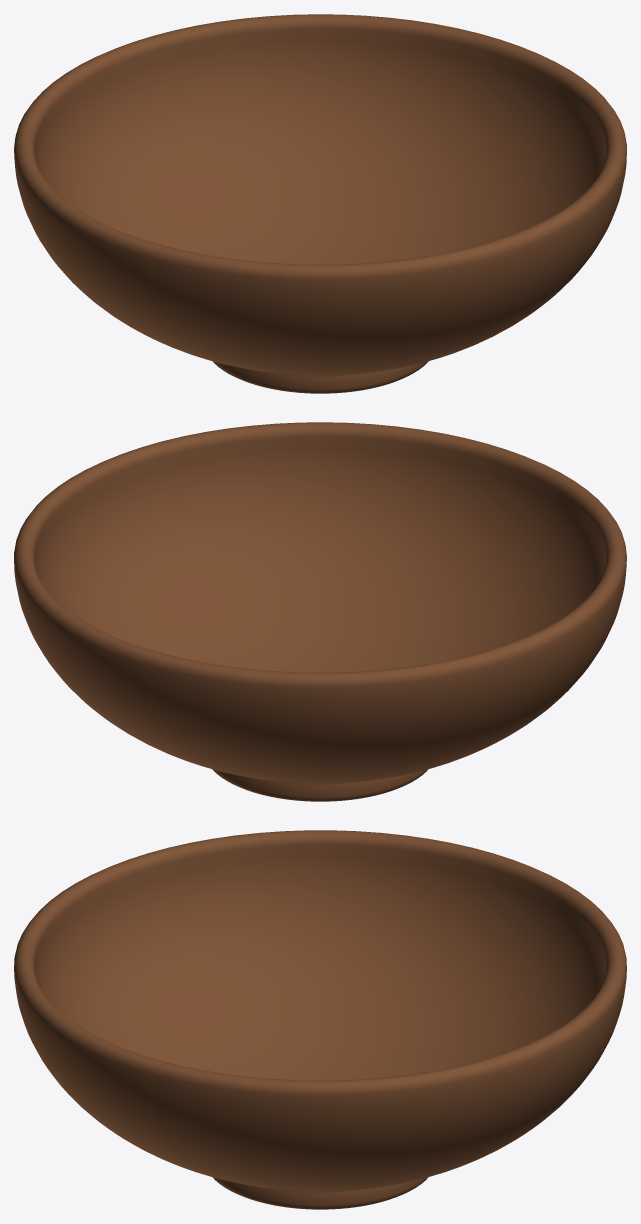
The model's file is knead.glb.
3 renders of one model, top to bottom at view 1: azimuth 30°, elevation 25°; view 2: azimuth 150°, elevation 25°; view 3: azimuth 270°, elevation 25°, orthographic.
Visible parts, largest first — view 1: 볼; view 2: 볼; view 3: 볼.
Boxes of the visible parts, x1,y1,x2,y2 form: 볼: (14, 14, 626, 393); 볼: (14, 422, 626, 801); 볼: (14, 830, 626, 1209).
Bounding box in the file's own units: 0.2399 × 0.089 × 0.24.
